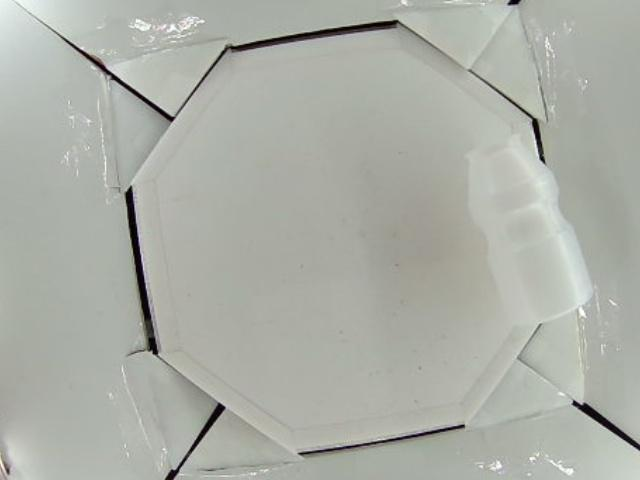Bottle: (469, 140, 585, 325)
